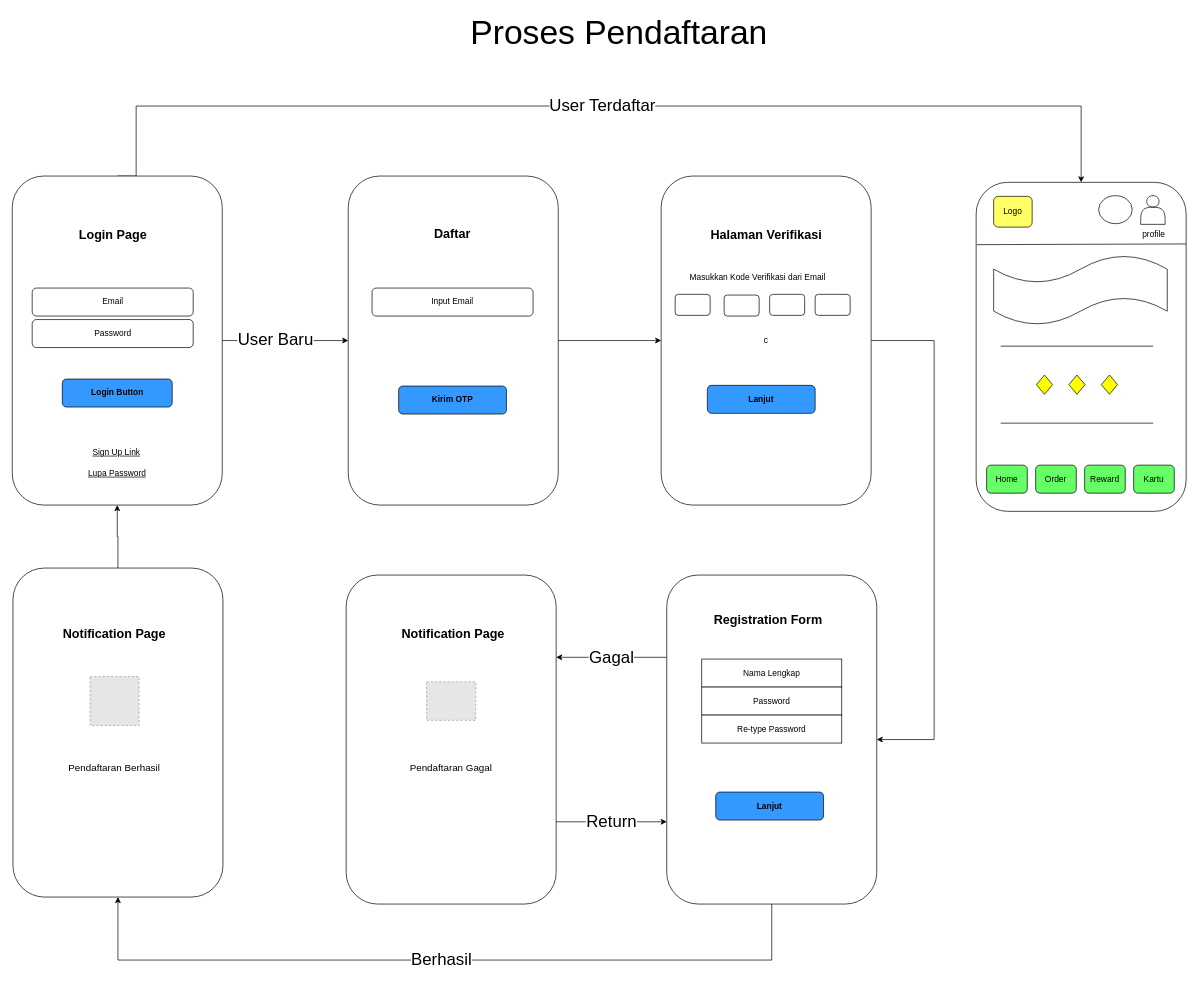
The diagram is 1199 pixels wide and 982 high, and some of its shapes have lost their labels. Grey dashed boxes stand in for pictures. Each missing label, with the centre of its shape:
Item2: point (1076, 384)
notif: point (1115, 209)
Promotion: point (1080, 289)
